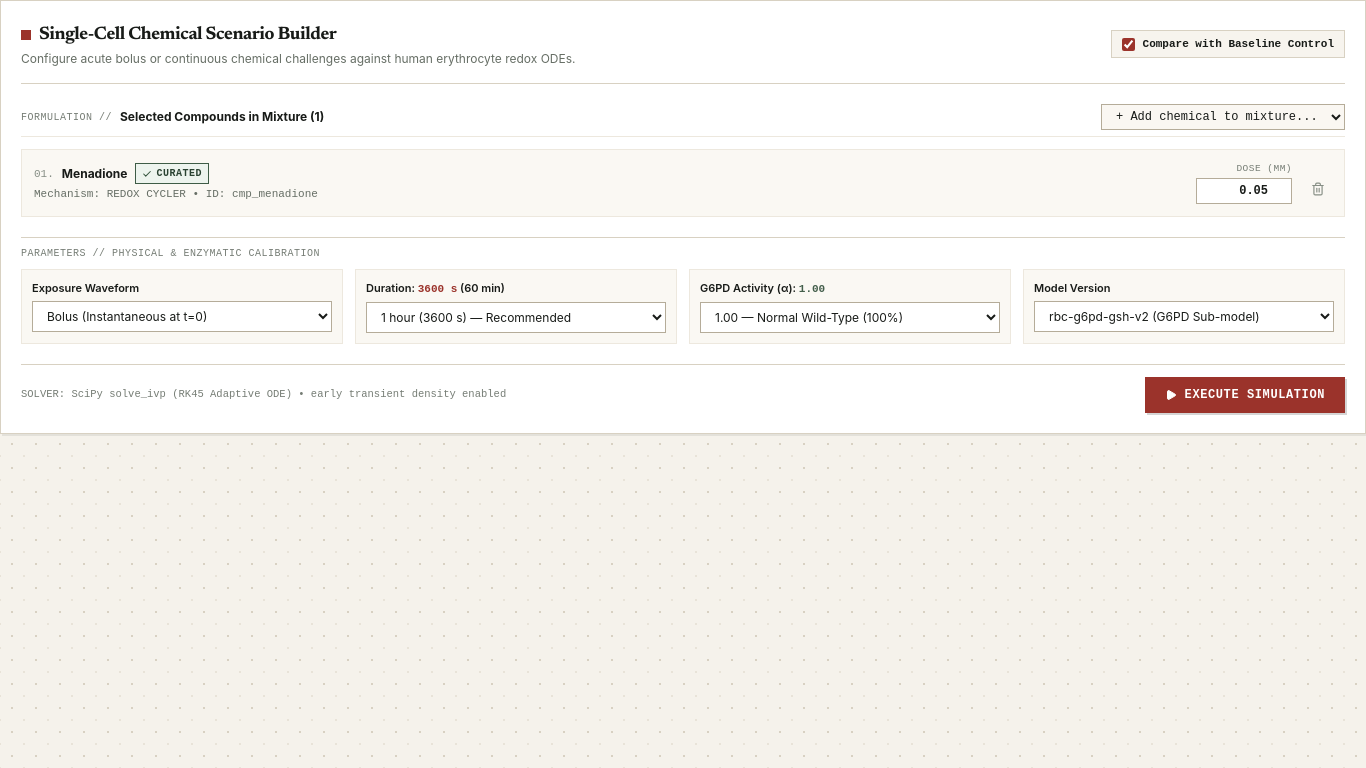
Test: ScenarioBuilder Component › validates dose bounds and rejects negative or zero dose
Replace the text in the number field with "0": (1244, 191) [1196,178,1292,204]
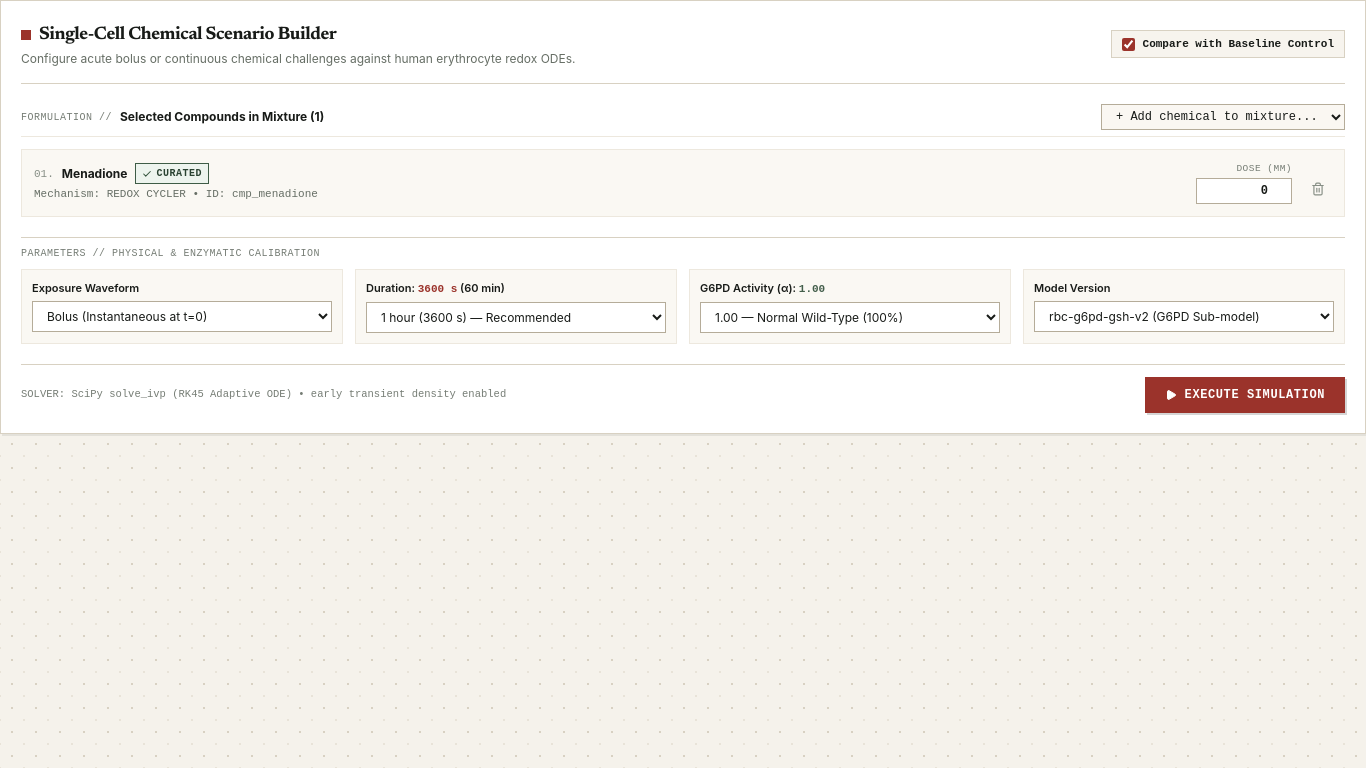
Click the button "Execute Simulation": (1245, 395) [1145,377,1345,413]
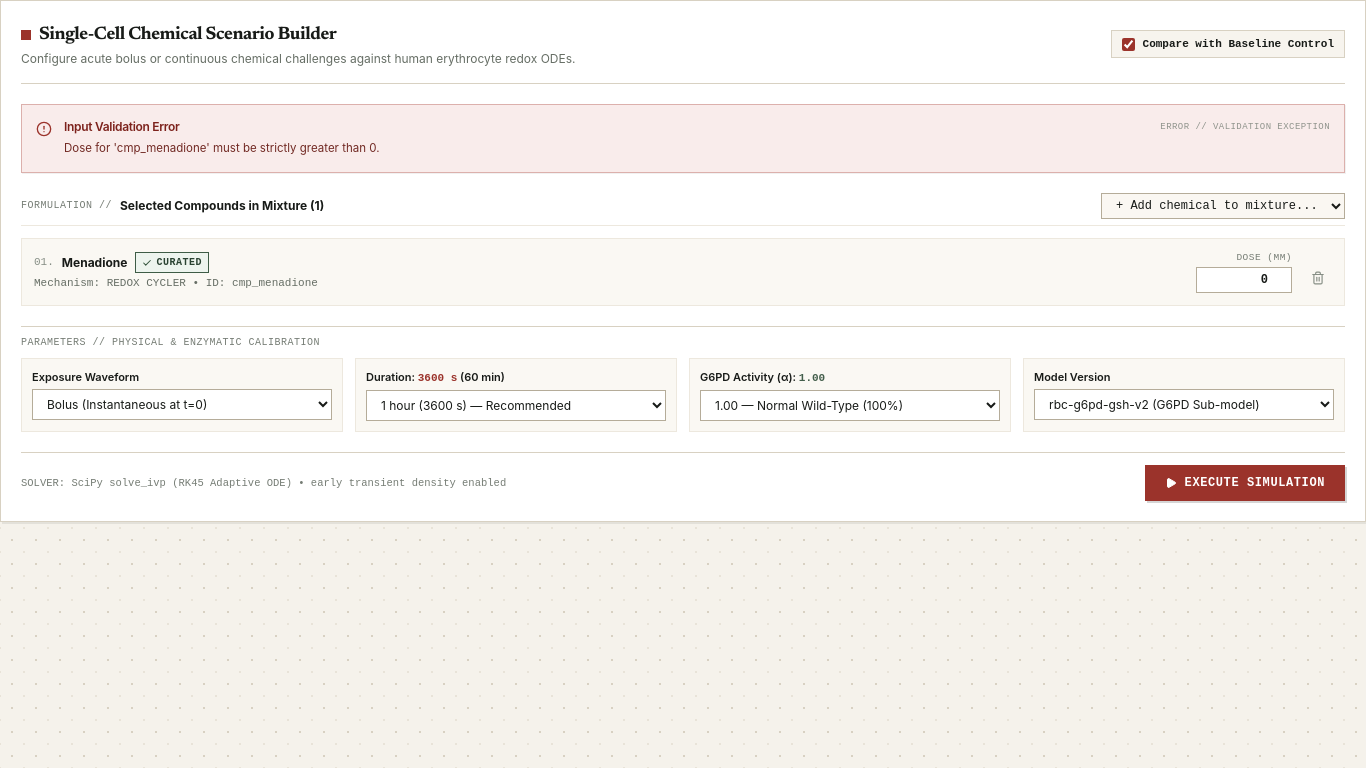
Check: the text "Dose for 'cmp_menadione' must be strictly greater than 0." is shown, box [64,141,380,155]
